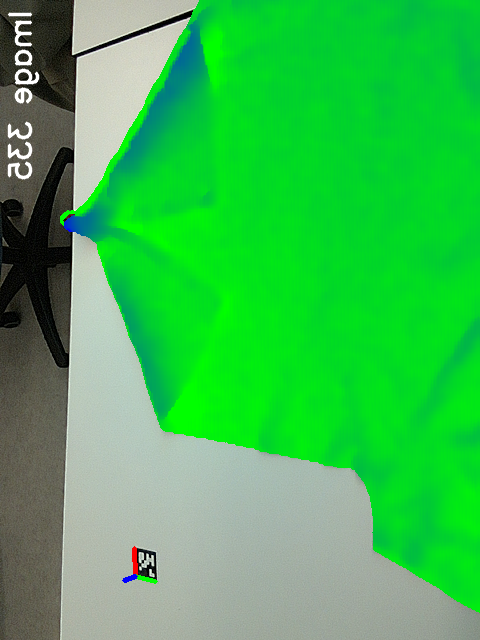V: (186, 274, 235, 334), (181, 169, 236, 220)
